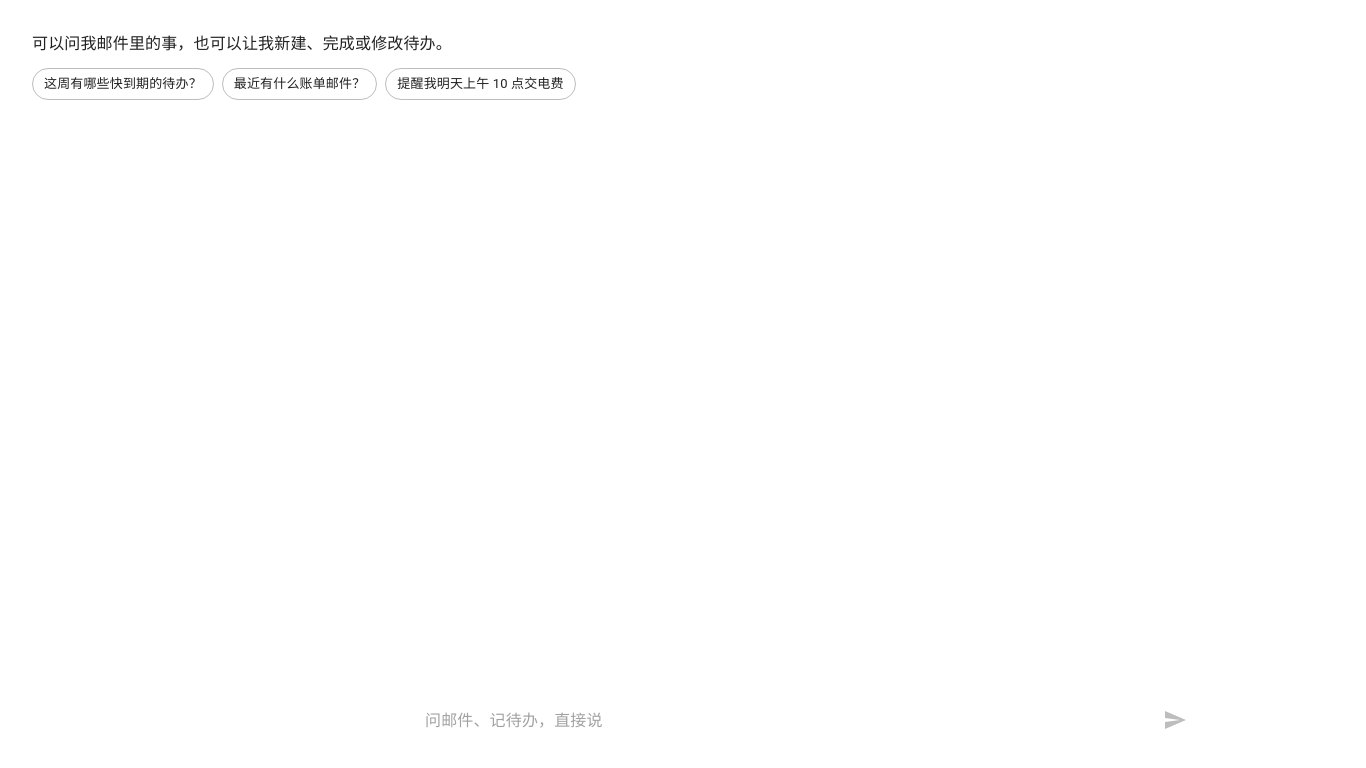
Test: 回复渲染 › 回答里的 **粗体** 经 SafeMarkdown 渲染成 strong
In the text box named "给助理的消息": (779, 720) [425, 708, 1133, 732], type "随便问问"
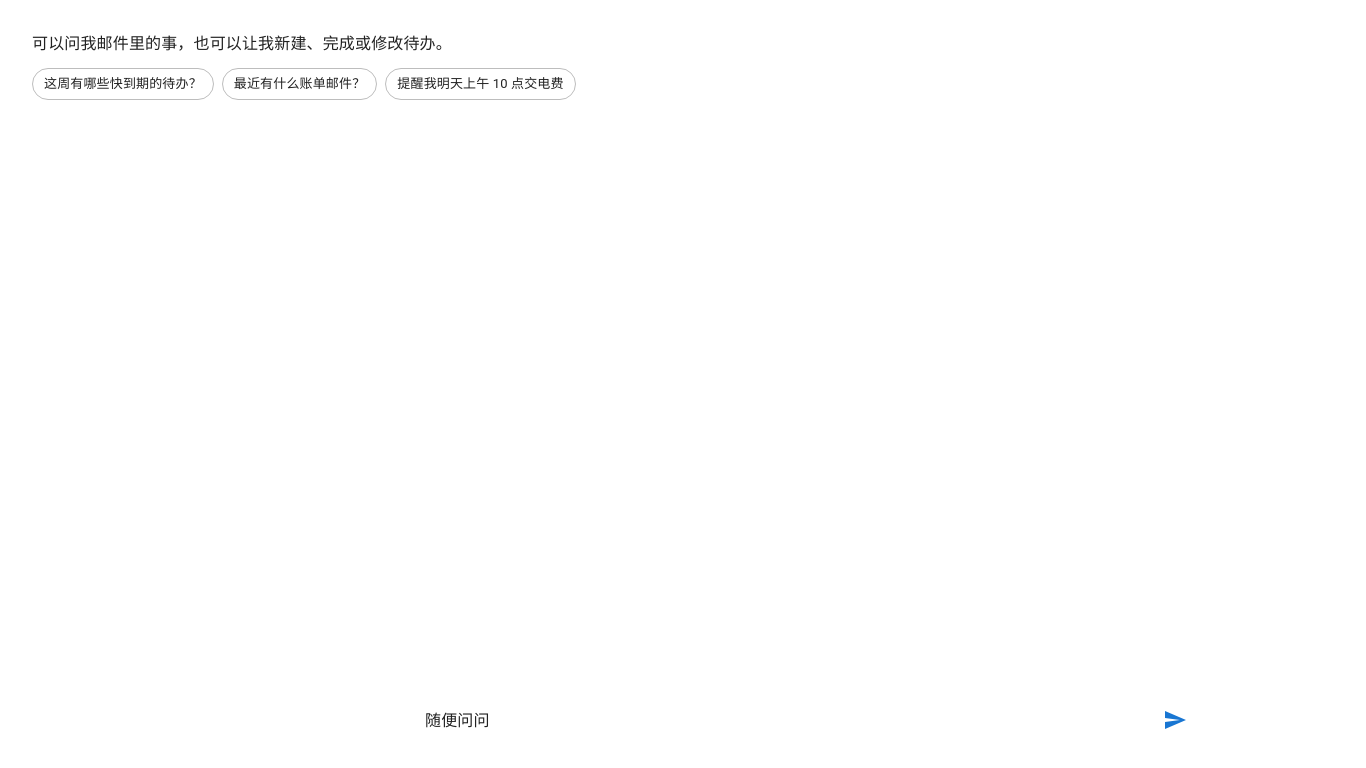
Press Enter in the text box named "给助理的消息", box [425, 708, 1133, 732]
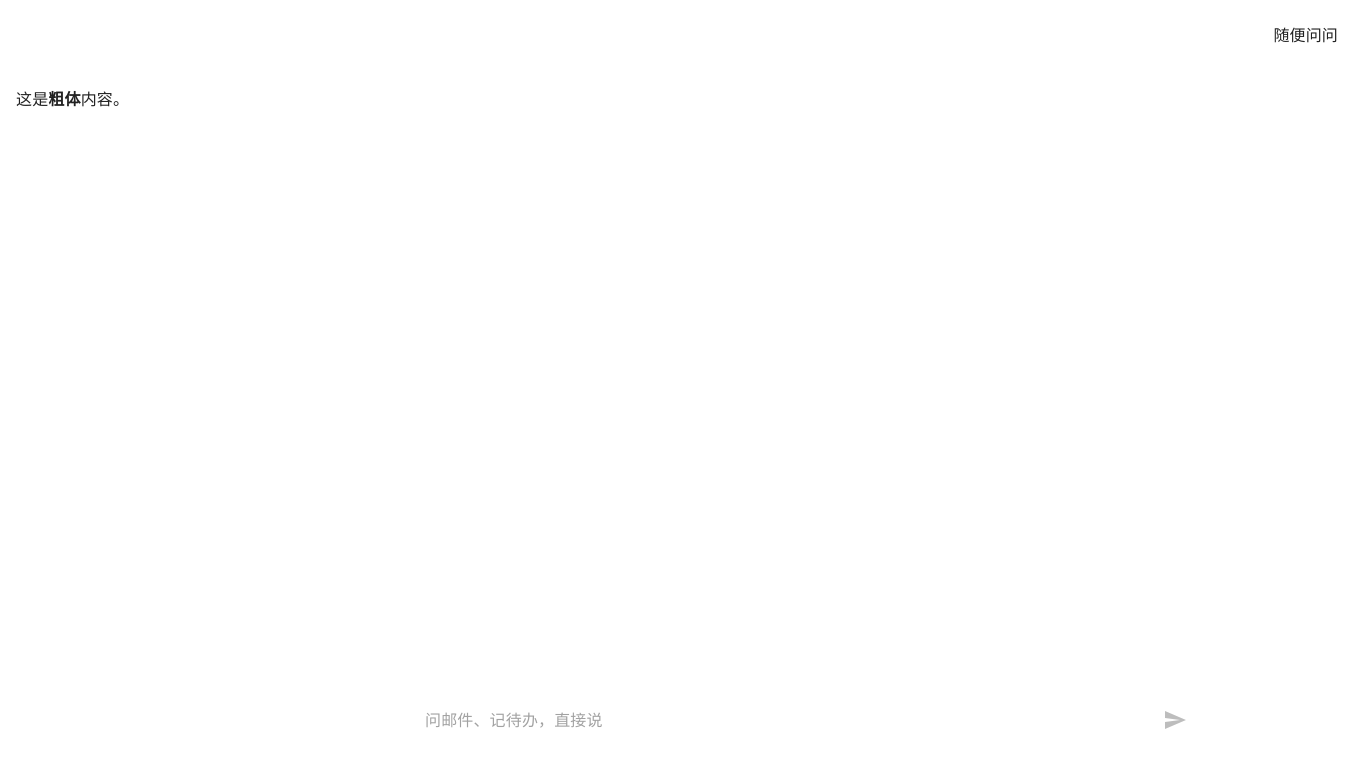
Expected: the text "粗体" is shown, [48, 90, 81, 109]
